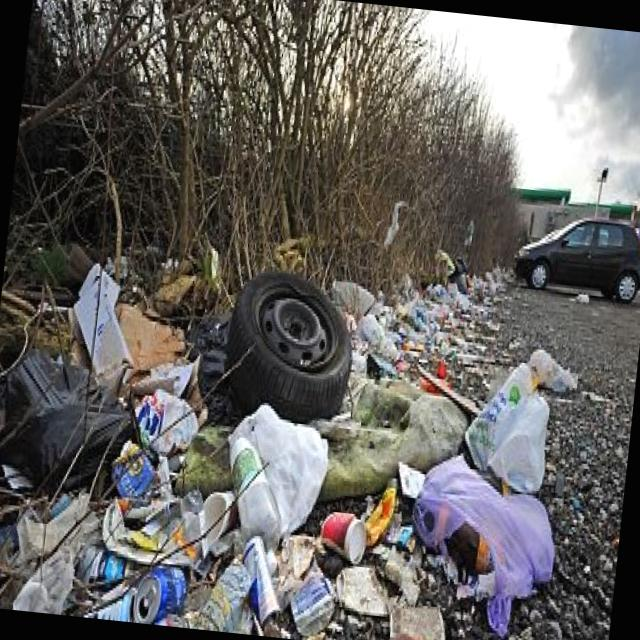garbage: (0, 247, 579, 640)
